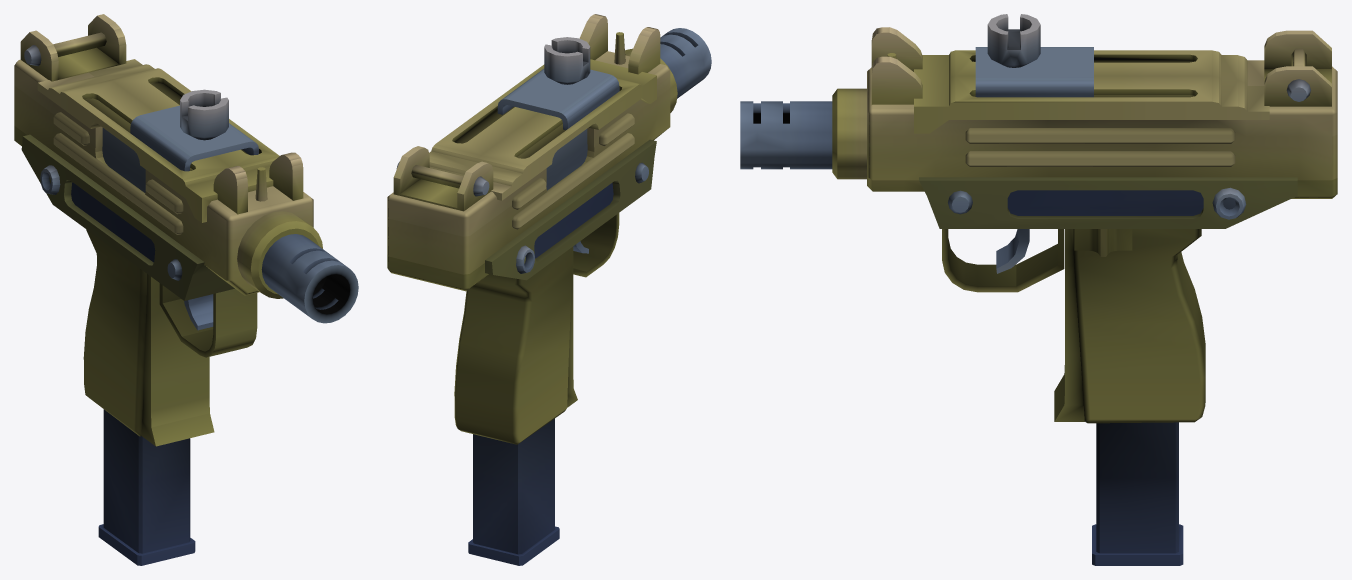
The model's file is FireArms_Handgun_SMG.gltf.
The picture shows the model from 3 angles, left to right: view 1: azimuth 30°, elevation 25°; view 2: azimuth 150°, elevation 25°; view 3: azimuth 270°, elevation 25°; orthographic projection. The views are drawn at different scales.
Parts seen in each view (by area): view 1: FireArms_Handgun_SMG; view 2: FireArms_Handgun_SMG; view 3: FireArms_Handgun_SMG.
Part boxes in pixels (bbox=[...]): FireArms_Handgun_SMG: bbox=[14, 14, 358, 565]; FireArms_Handgun_SMG: bbox=[387, 14, 711, 565]; FireArms_Handgun_SMG: bbox=[740, 14, 1337, 565].
Size of the model in its own units: 0.1942 by 0.7563 by 0.7776.
Materials: 2 (2 with a texture image).
